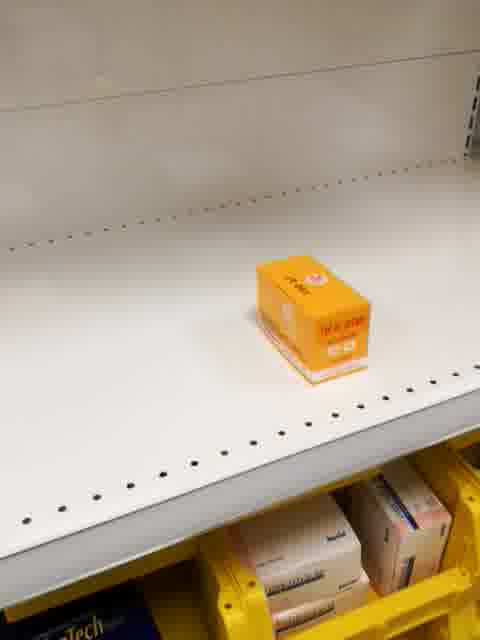jasminetea: (253, 250, 372, 387)
